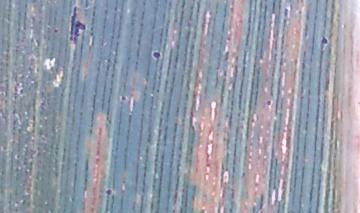tarspot: (69, 6, 86, 42), (104, 187, 114, 198), (151, 51, 162, 60), (119, 94, 127, 103), (321, 37, 329, 46), (264, 99, 272, 107), (52, 28, 59, 34), (200, 207, 206, 213)
